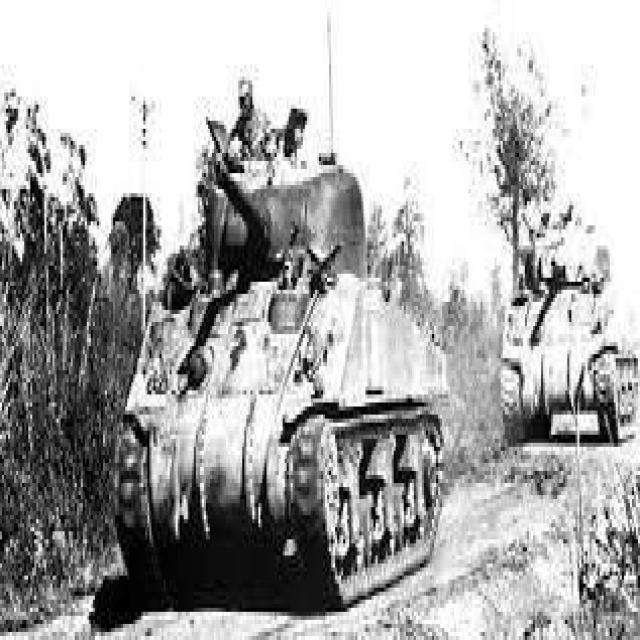MIL_MBT: (118, 151, 449, 606), (501, 229, 634, 443)
